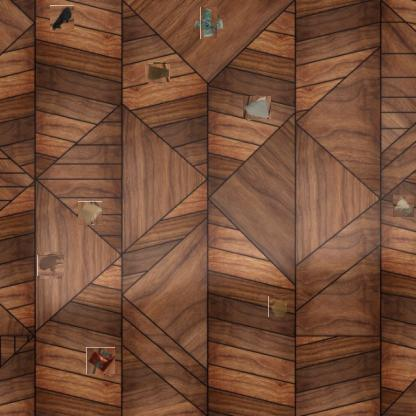dirty: (87, 346, 114, 374), (244, 95, 270, 121), (50, 5, 74, 32), (197, 11, 221, 36), (79, 201, 102, 225), (146, 62, 168, 84), (394, 195, 416, 217)
liquid: (39, 253, 63, 278), (268, 295, 287, 317)
